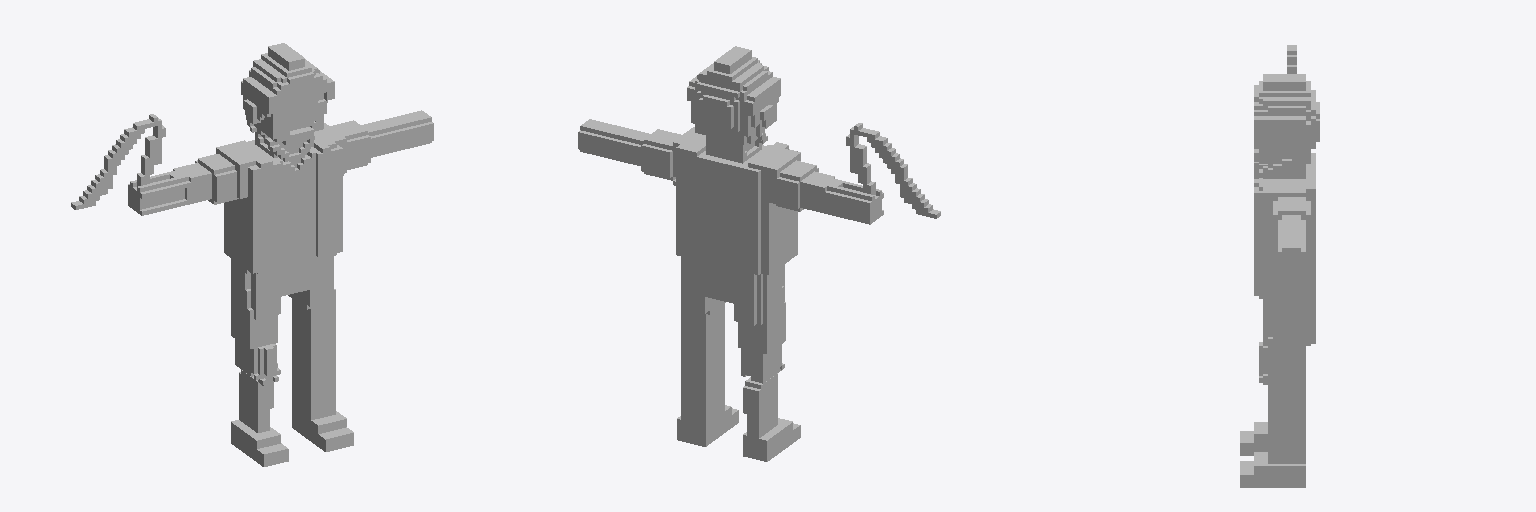
The model's file is monster 1.obj.
The picture shows the model from 3 angles: view 1: azimuth 30°, elevation 25°; view 2: azimuth 150°, elevation 25°; view 3: azimuth 270°, elevation 25°; orthographic projection.
Visible parts, largest first — view 1: object 1; view 2: object 1; view 3: object 1.
Boxes of the visible parts, <box> form: object 1: <box>71,43,433,466</box>; object 1: <box>578,46,940,461</box>; object 1: <box>1240,45,1319,487</box>.
Size of the model in its own units: 8.6 by 9 by 1.7.